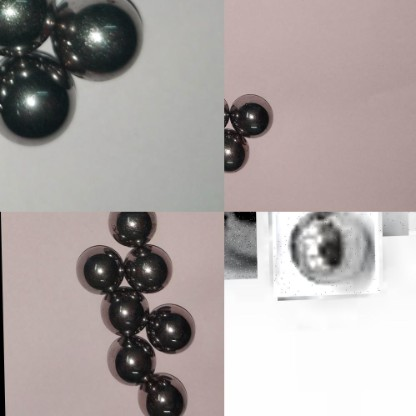ironball: (270, 211, 378, 297), (0, 45, 84, 143), (56, 0, 145, 78), (142, 298, 194, 358), (0, 0, 58, 51), (121, 240, 173, 293), (98, 289, 153, 339), (73, 239, 124, 291), (103, 336, 154, 382), (231, 90, 277, 140), (224, 211, 256, 281), (138, 373, 189, 414), (104, 213, 157, 242), (222, 130, 254, 170)
